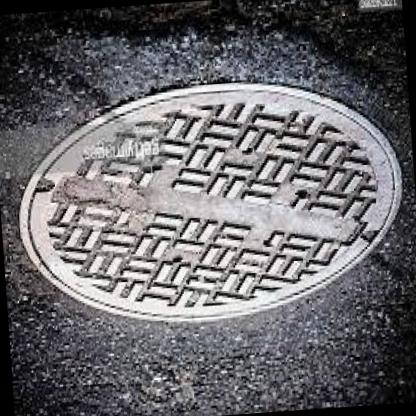manholes: (0, 27, 416, 358)
